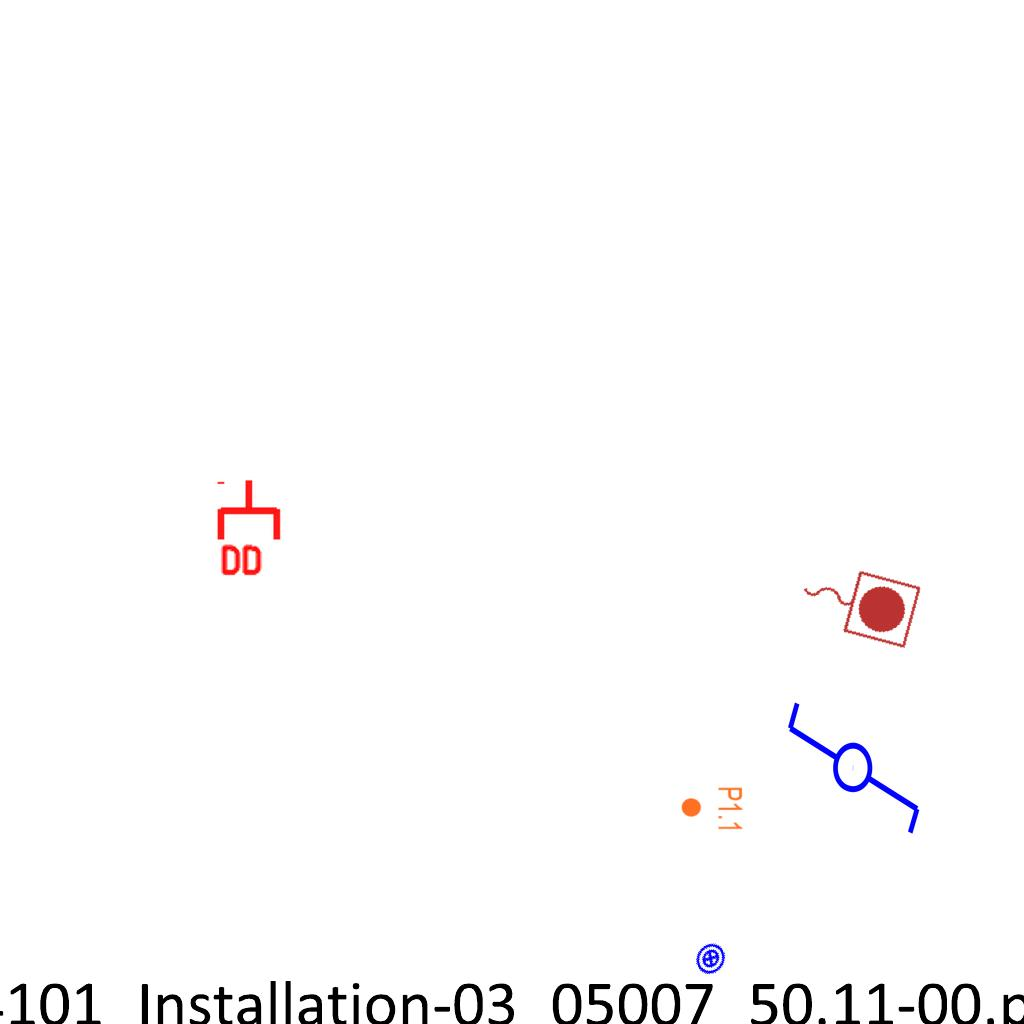Datenanschluss_zweifach: (216, 477, 285, 580)
Downlight_LED_Einbauleuchten_Flur: (680, 786, 744, 832)
Taster_beleuchtet: (687, 935, 734, 982)
Wechselschalter: (783, 681, 927, 838)
Zugtaster: (789, 551, 927, 653)
